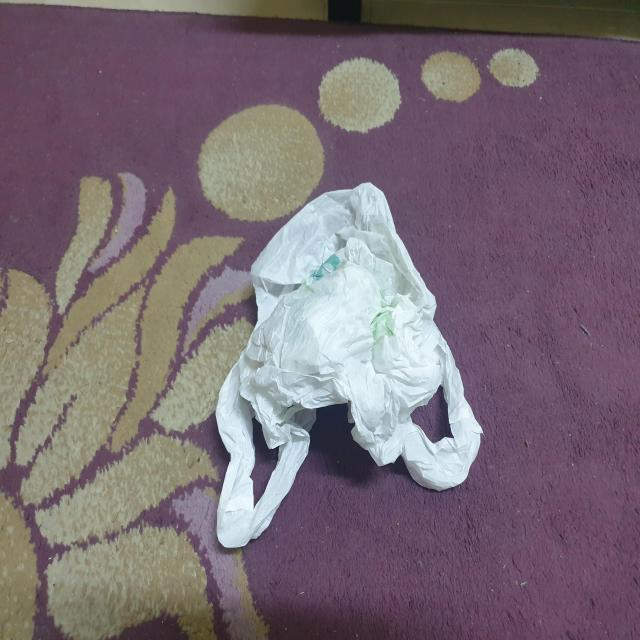plastic bag: (212, 171, 488, 555)
